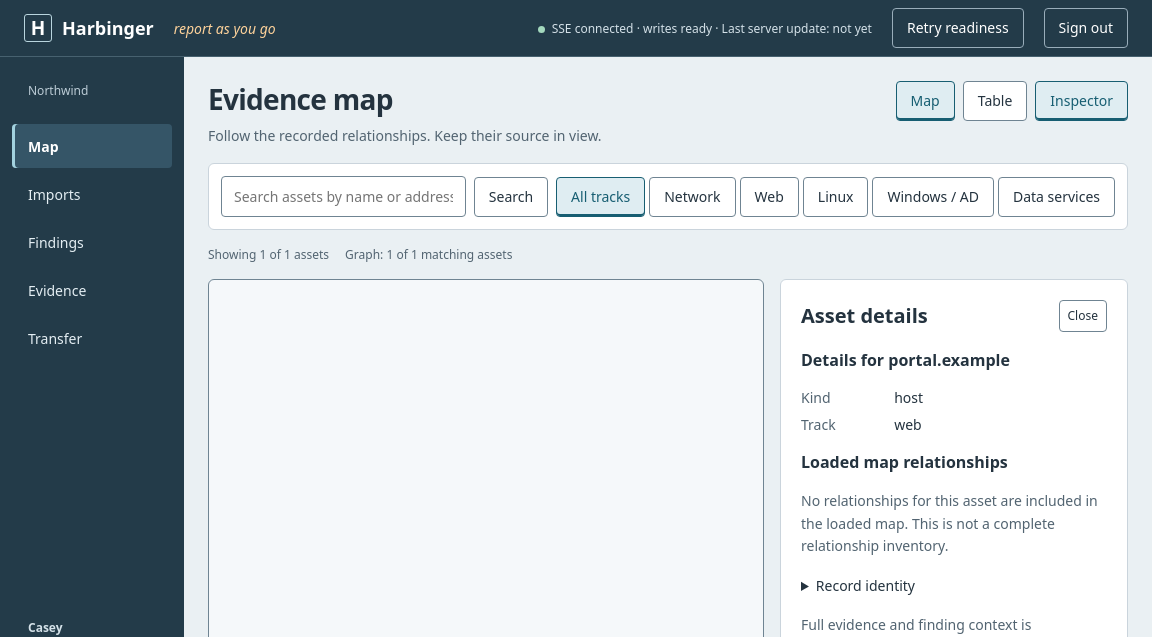
Test: Harbinger UI contract › renders a retained conflict receipt from direct peer send
Click the link "Transfer" at (55, 338), box x1=28 y1=329 x2=82 y2=348
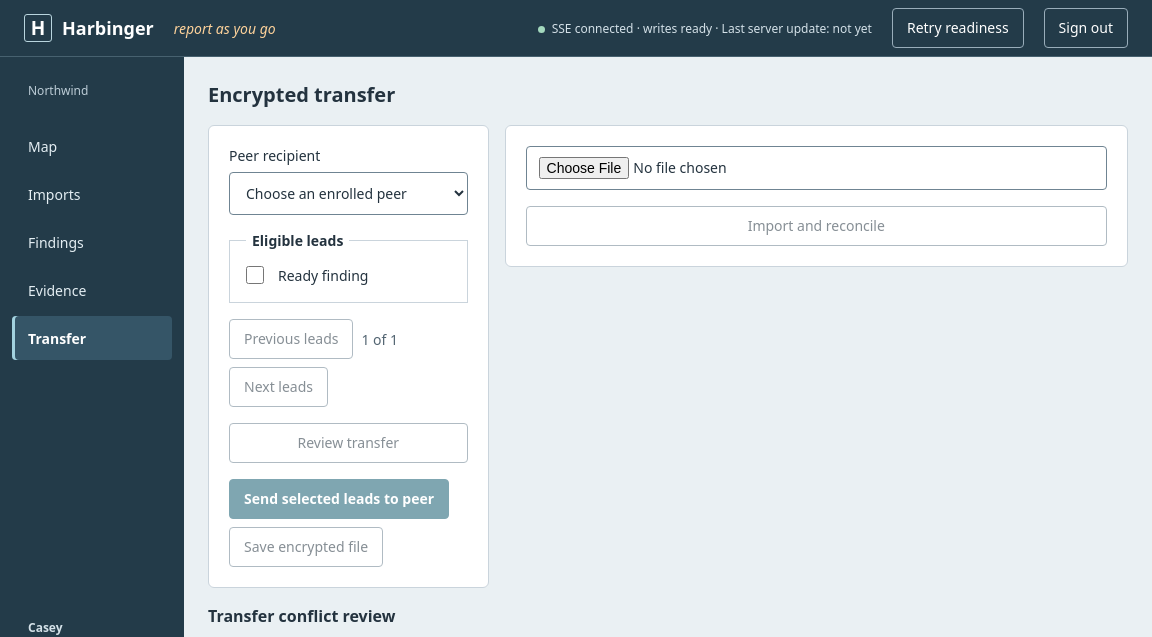
Select "Merlin · enrolled · age1peer" in the dropdown labelled "Peer recipient" at (348, 194), box x1=229 y1=172 x2=468 y2=215
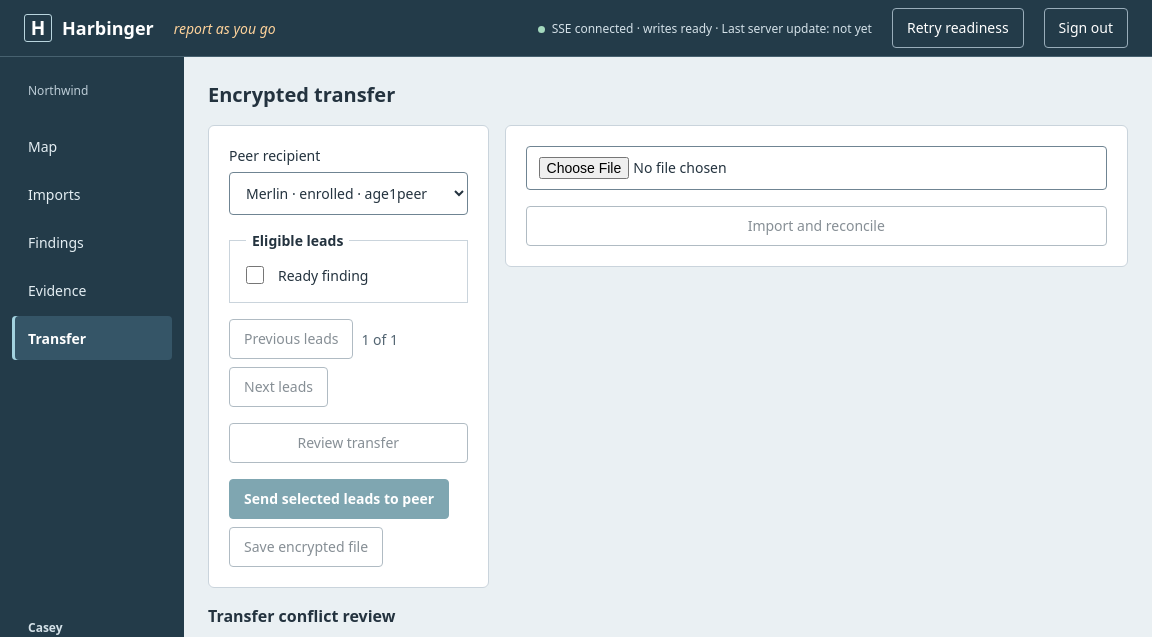
Click the checkbox labelled "Ready finding" at (255, 275), box x1=246 y1=266 x2=264 y2=284
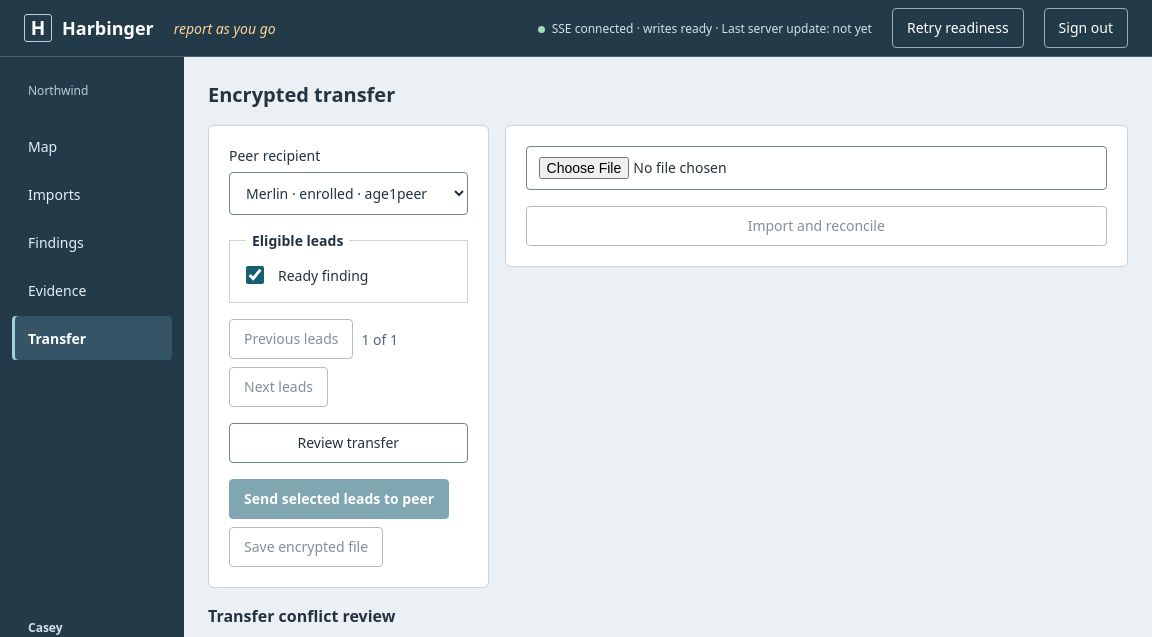
Click the button "Review transfer" at (348, 443), box x1=229 y1=423 x2=468 y2=463
(page scrolled)
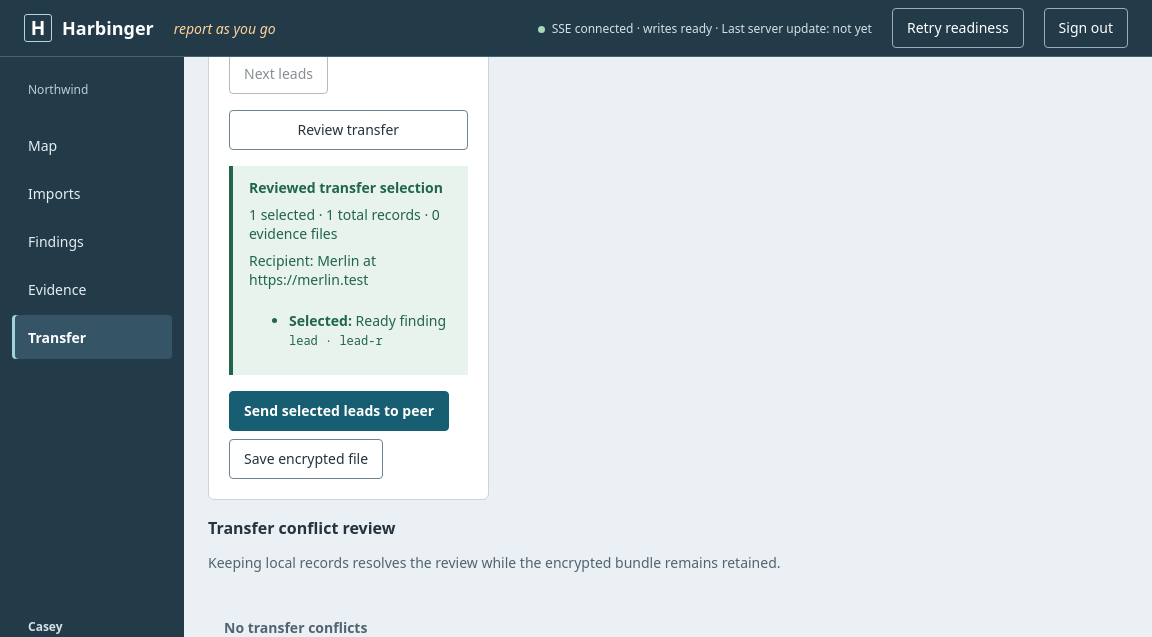
Expected: the text "1 selected · 1 total records · 0 evidence files" is shown, x1=249 y1=205 x2=452 y2=243
Click the button "Send selected leads to peer" at (339, 411), box x1=229 y1=391 x2=449 y2=431
(page scrolled)
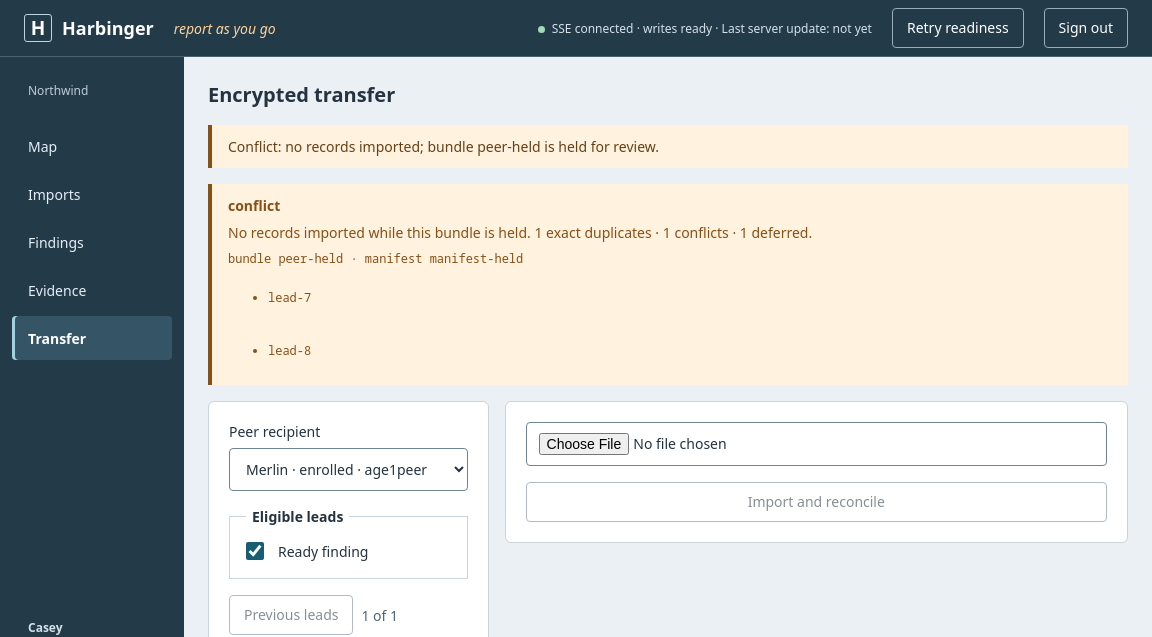
Expected: the text "No records imported while this bundle is held" is shown, x1=228 y1=223 x2=531 y2=242
Expected: the list named "Conflicting record IDs" reads "lead-7", x1=268 y1=289 x2=311 y2=306
Expected: the list named "Deferred record IDs" reads "lead-8", x1=268 y1=342 x2=311 y2=359
